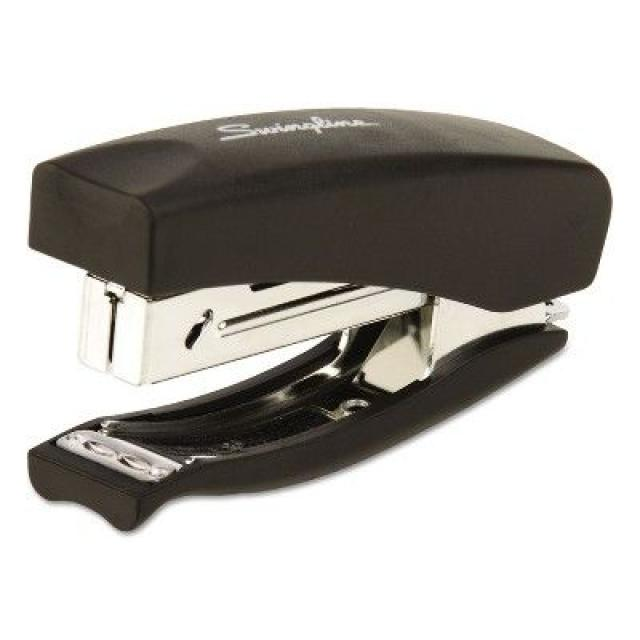Stapler: (0, 91, 633, 563)
